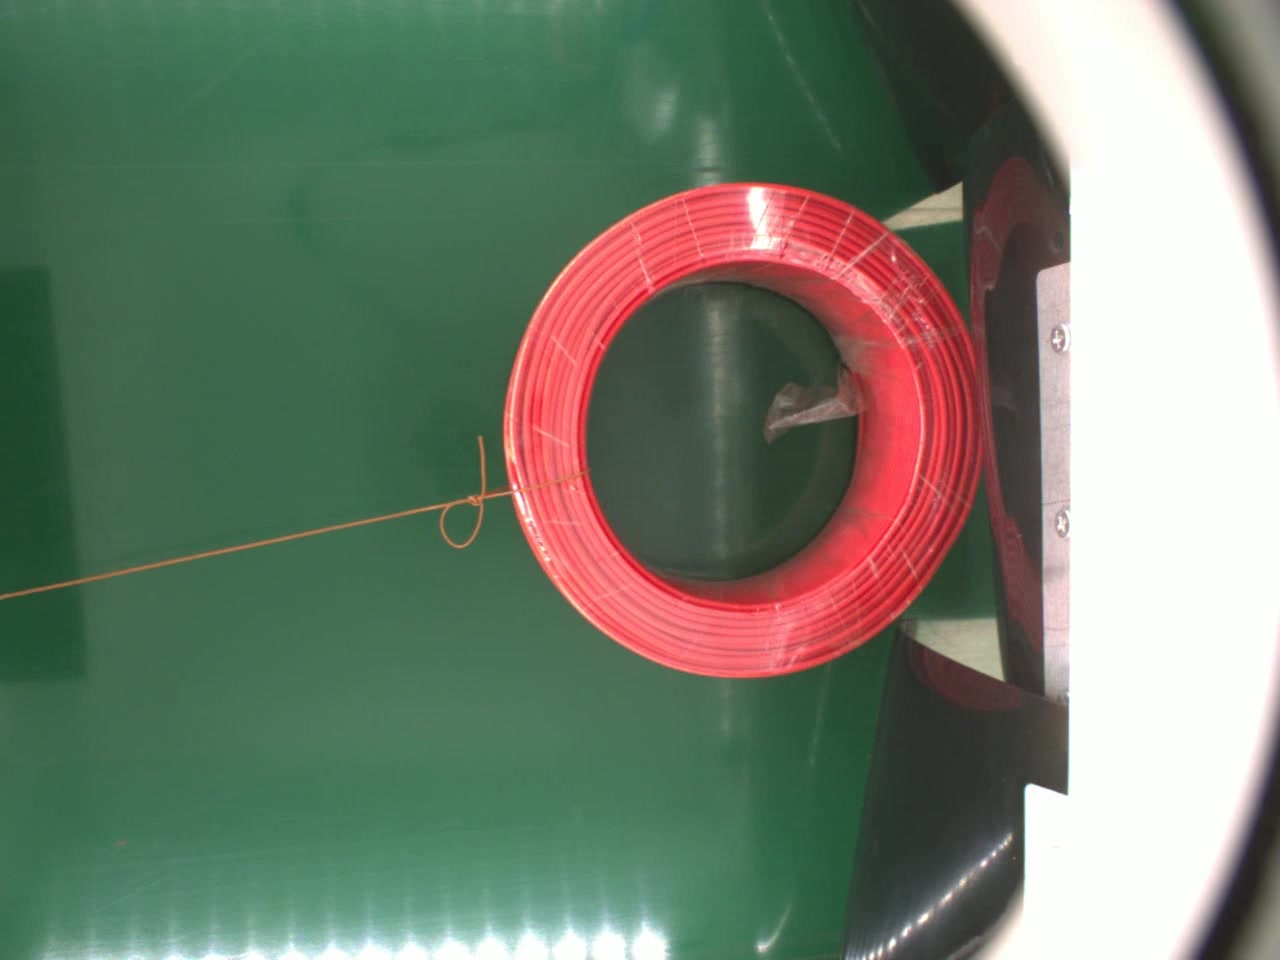red: (498, 179, 985, 681)
